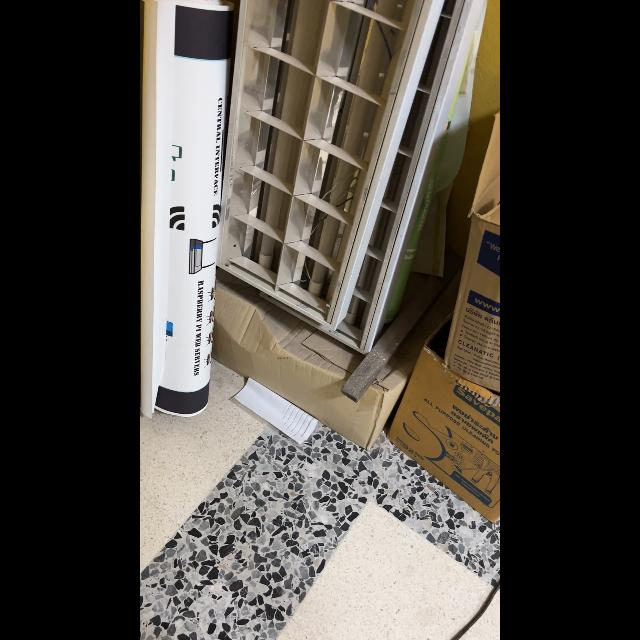cardboard_box: (208, 276, 410, 452), (386, 320, 499, 526), (452, 107, 501, 381)
